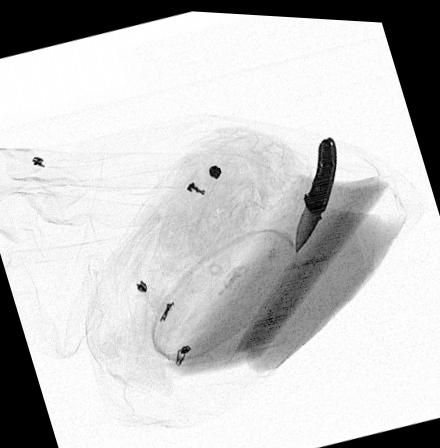Knife: (293, 131, 336, 249)
